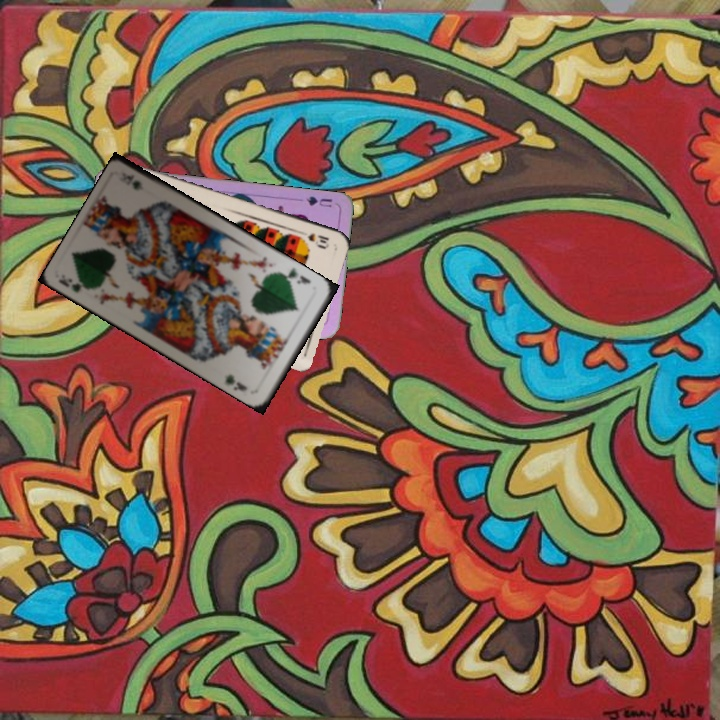GK: (56, 274, 97, 295), (279, 263, 313, 287)
GU: (302, 192, 335, 210)
S10: (295, 226, 332, 249)
